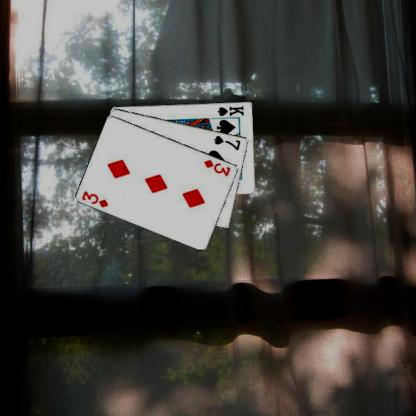3D: (80, 188, 110, 209), (201, 157, 232, 177)
7S: (212, 133, 242, 151)
KS: (215, 103, 245, 117)
